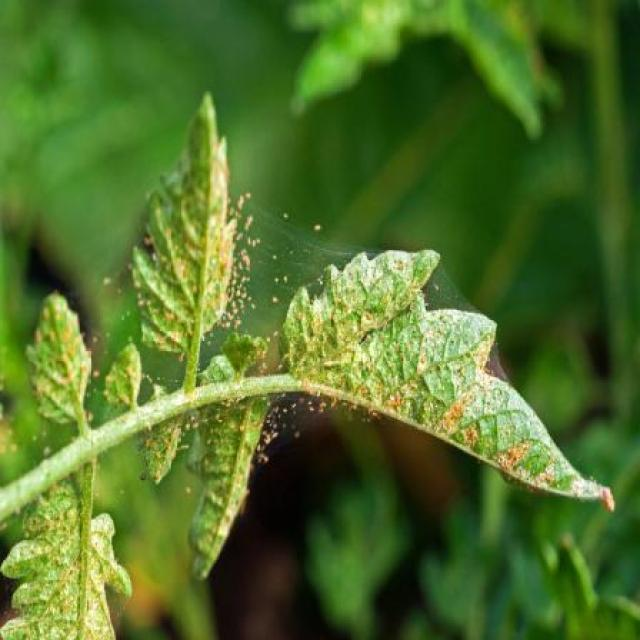Spider Mites: (281, 245, 616, 506), (130, 88, 236, 355), (0, 490, 133, 640), (26, 287, 91, 422)
